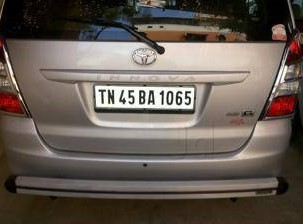TN45BA1065: (94, 85, 194, 109)
